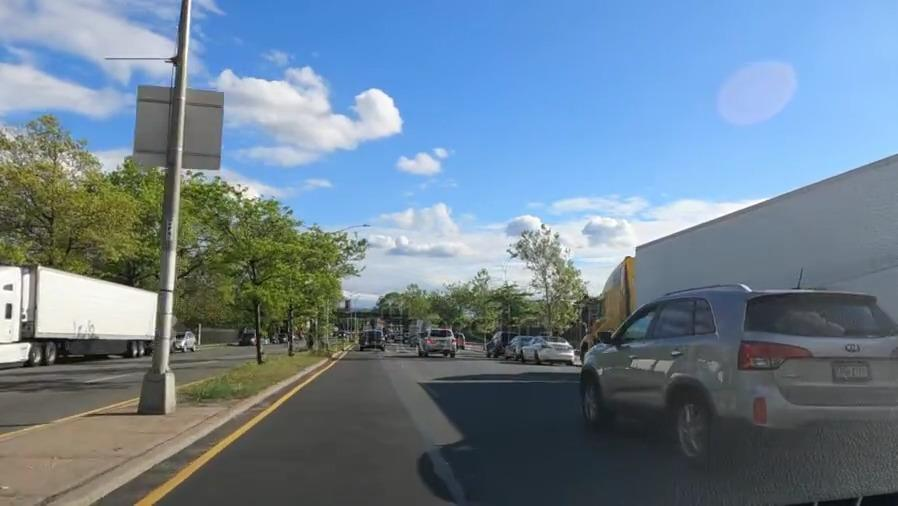car: (587, 293, 898, 457), (577, 377, 615, 424), (524, 335, 571, 364), (416, 330, 457, 358), (484, 331, 512, 356), (360, 330, 387, 352), (509, 335, 532, 360), (177, 330, 195, 353), (454, 332, 465, 349)
truck: (584, 171, 898, 363), (2, 262, 158, 371)
wheel: (668, 394, 712, 463)
